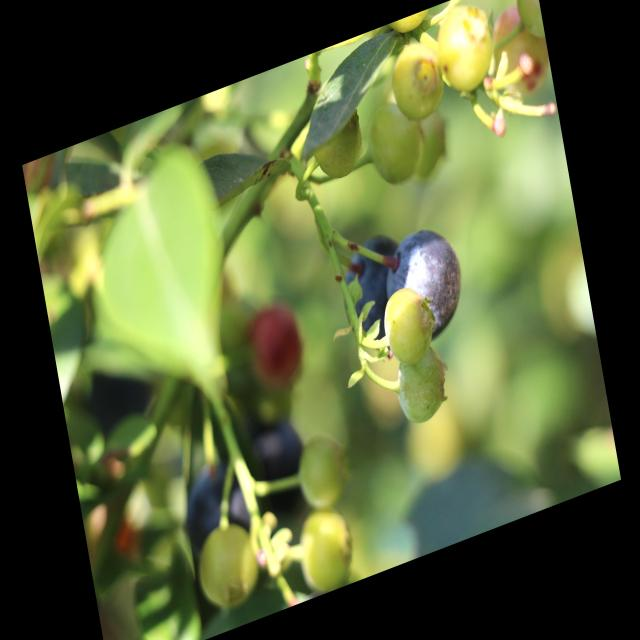blueberry: (379, 213, 471, 352), (337, 227, 410, 345)
blueberry-halfripe: (247, 298, 306, 387)
blueberry-unripe: (191, 511, 265, 617), (434, 0, 502, 103), (292, 501, 360, 599), (362, 91, 424, 196), (490, 0, 553, 102), (386, 32, 449, 128), (376, 280, 438, 372), (390, 341, 450, 433), (295, 429, 351, 516), (312, 102, 368, 186)
